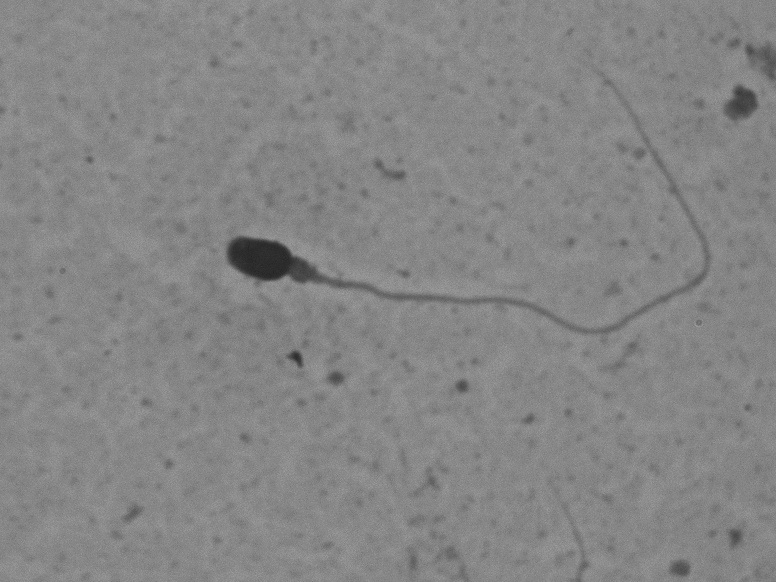Abnormal: (164, 72, 731, 355)
